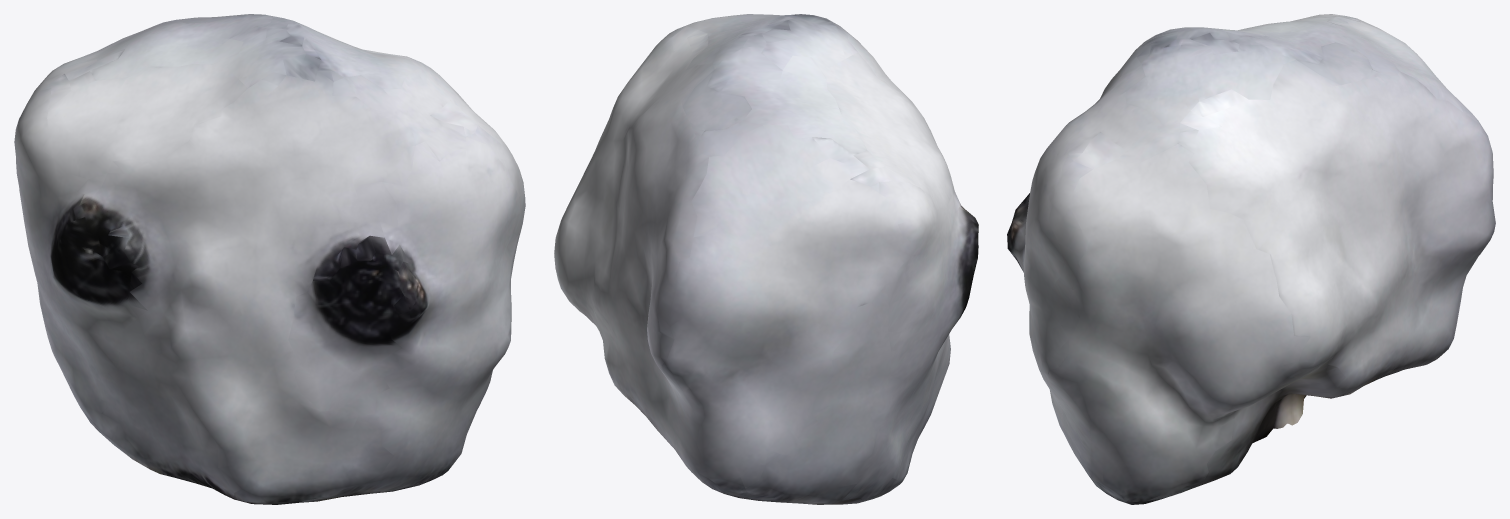
Rendered from mainSoul_70%.fbx.
3 renders of one model, left to right at view 1: azimuth 30°, elevation 25°; view 2: azimuth 150°, elevation 25°; view 3: azimuth 270°, elevation 25°, orthographic. The views are drawn at different scales.
Visible parts, largest first — view 1: Default_fracturepart; view 2: Default_fracturepart; view 3: Default_fracturepart.
Part boxes in pixels (x1,y1,x2,y2): Default_fracturepart: (14,14,525,504); Default_fracturepart: (554,14,978,504); Default_fracturepart: (1007,14,1495,504).
Size of the model in its own units: 38 by 39.86 by 41.89.
Materials: 1 (1 with a texture image).
